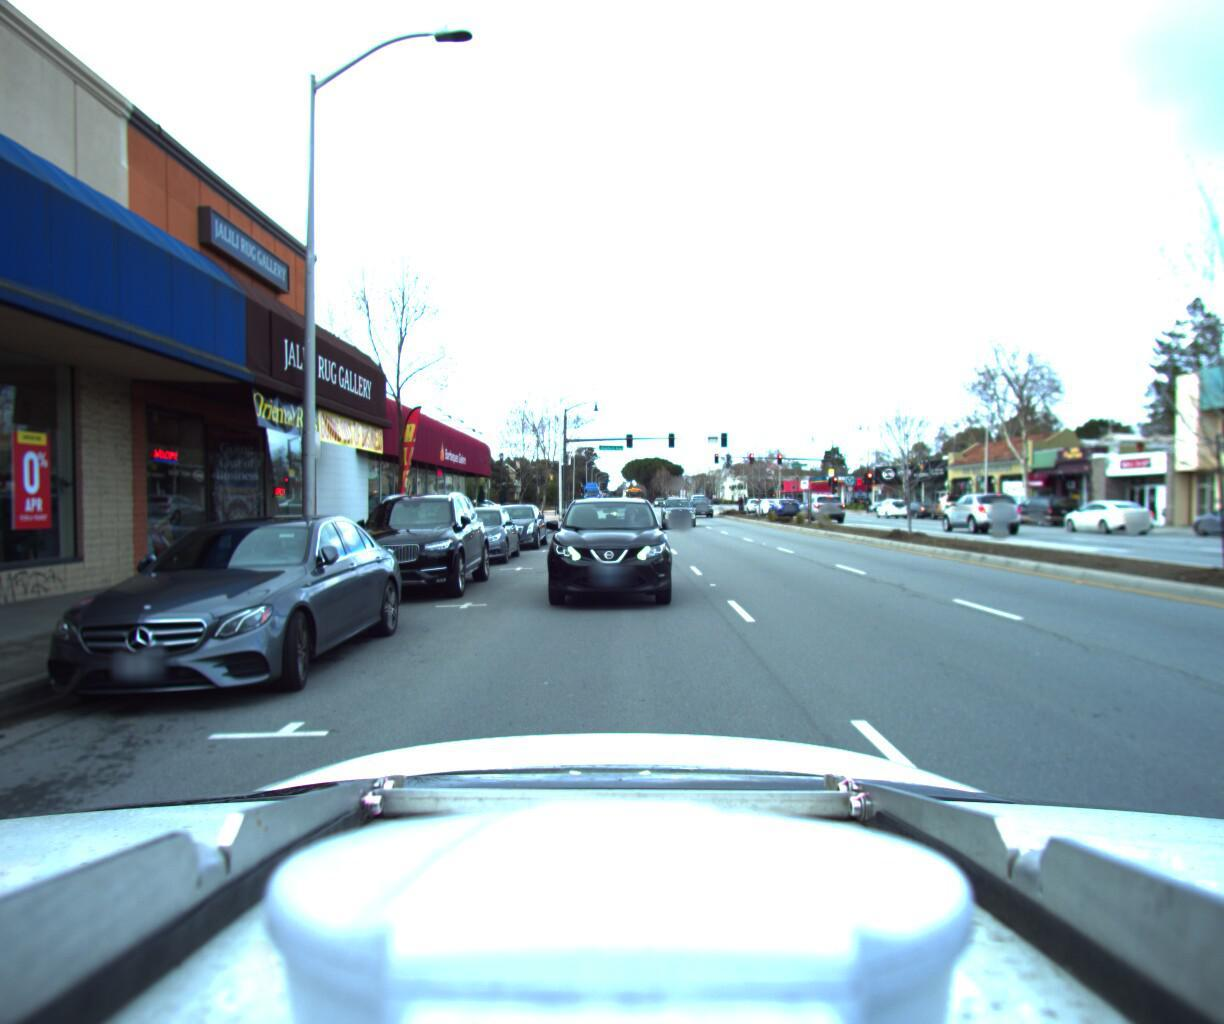bicycle: (734, 487, 747, 505)
car: (0, 499, 414, 721), (324, 483, 490, 605), (540, 492, 673, 621), (426, 498, 522, 563), (476, 493, 547, 548), (932, 485, 1017, 527), (1054, 493, 1150, 528), (925, 472, 983, 514), (1007, 487, 1080, 519), (1177, 494, 1224, 535), (797, 487, 845, 517), (965, 494, 1024, 516), (657, 491, 696, 522), (896, 493, 941, 513), (764, 490, 802, 511), (872, 493, 910, 514), (687, 485, 717, 509), (752, 490, 786, 509), (741, 489, 766, 507)
